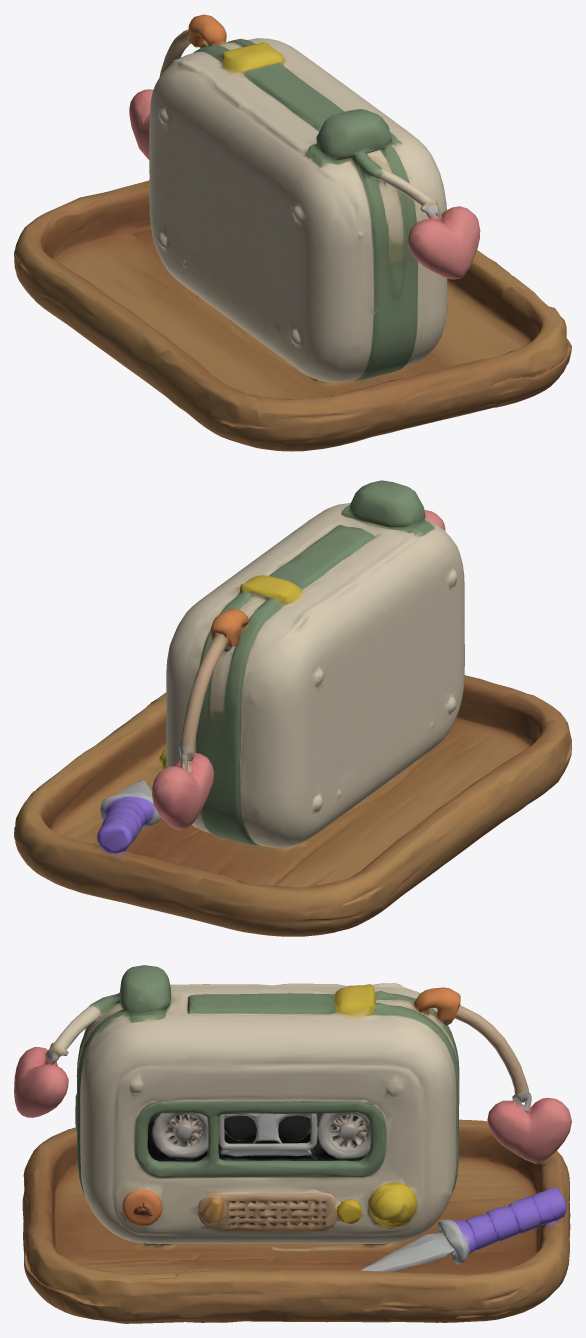
Rendered from discovery-assassin-v2.glb.
3 views of the same model, one above another, from view 1: azimuth 30°, elevation 25°; view 2: azimuth 150°, elevation 25°; view 3: azimuth 270°, elevation 25° (orthographic). The views are drawn at different scales.
Visible parts, largest first — view 1: tripo_node_87bc04ec-fef5-4eba-bbe7-fcbc5e43715d; view 2: tripo_node_87bc04ec-fef5-4eba-bbe7-fcbc5e43715d; view 3: tripo_node_87bc04ec-fef5-4eba-bbe7-fcbc5e43715d.
Boxes of the visible parts, left/top/right/bottom form: tripo_node_87bc04ec-fef5-4eba-bbe7-fcbc5e43715d: left=14, top=14, right=571, bottom=451; tripo_node_87bc04ec-fef5-4eba-bbe7-fcbc5e43715d: left=14, top=480, right=571, bottom=936; tripo_node_87bc04ec-fef5-4eba-bbe7-fcbc5e43715d: left=14, top=965, right=571, bottom=1323.
Bounding box in the file's own units: 0.7104 × 0.5321 × 1.
Materials: 1 (1 with a texture image).
